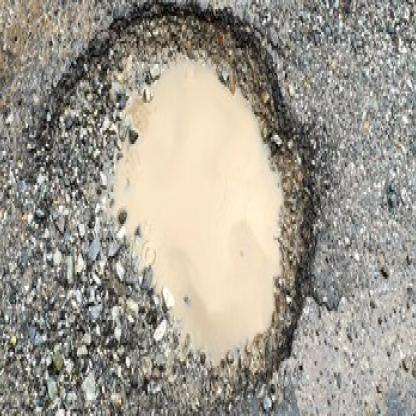pothole: (47, 13, 320, 389)
